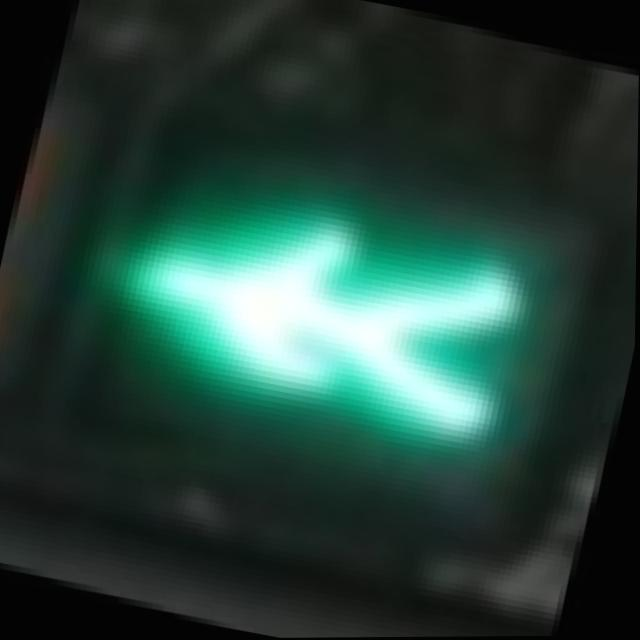green_light: (46, 87, 567, 528)
